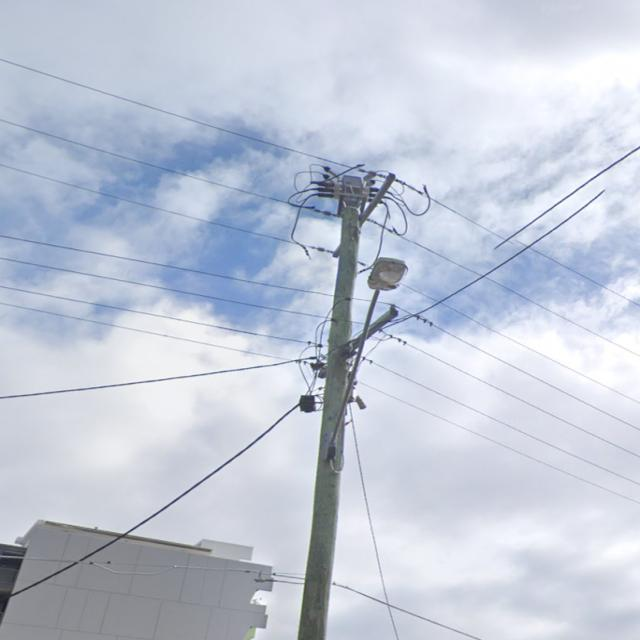HV-switch: (313, 166, 393, 217)
HV-transmission: (317, 172, 398, 257)
crossarm: (332, 172, 397, 258), (350, 308, 398, 350)
streetlight: (328, 257, 408, 461)
timber-pole: (296, 206, 363, 640)
